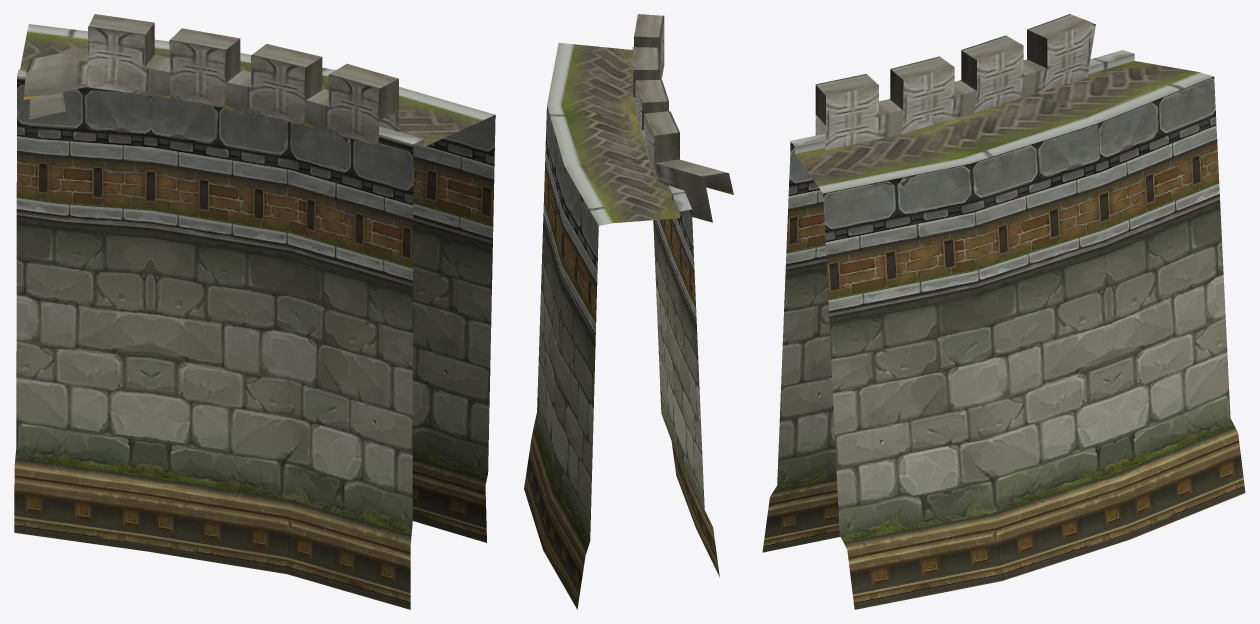
File: DN_mcwall05.FBX
3 views of the same model, side by side, from view 1: azimuth 30°, elevation 25°; view 2: azimuth 150°, elevation 25°; view 3: azimuth 270°, elevation 25° (orthographic). The views are drawn at different scales.
Parts seen in each view (by area): view 1: DN_mcwall05; view 2: DN_mcwall05; view 3: DN_mcwall05.
Part boxes in pixels (x1=…): DN_mcwall05: x1=14, y1=14, x2=495, y2=609; DN_mcwall05: x1=524, y1=14, x2=733, y2=609; DN_mcwall05: x1=762, y1=14, x2=1245, y2=609.
Size of the model in its own units: 965 by 1329 by 1245.
